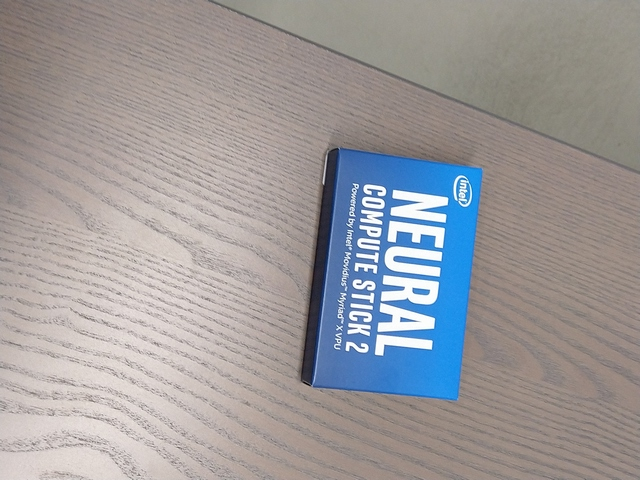box: (300, 147, 484, 402)
